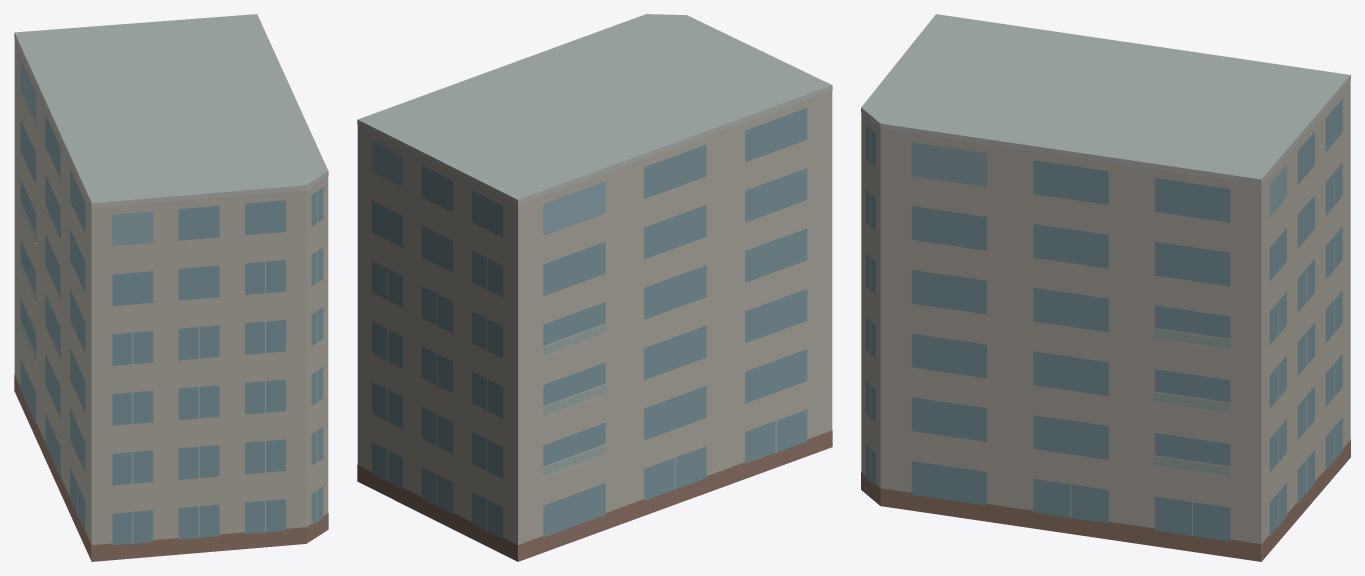
The model's file is survey-upis-32552376.glb.
3 views of the same model, side by side, from view 1: azimuth 30°, elevation 25°; view 2: azimuth 150°, elevation 25°; view 3: azimuth 270°, elevation 25° (orthographic). The views are drawn at different scales.
Parts seen in each view (by area): view 1: survey-upis-32552376.tmp; view 2: survey-upis-32552376.tmp; view 3: survey-upis-32552376.tmp.
Part boxes in pixels (x1,y1,x2,y2): survey-upis-32552376.tmp: [14, 14, 328, 561]; survey-upis-32552376.tmp: [357, 14, 832, 561]; survey-upis-32552376.tmp: [861, 14, 1350, 561].
Size of the model in its own units: 16.3 by 17.55 by 20.37.
